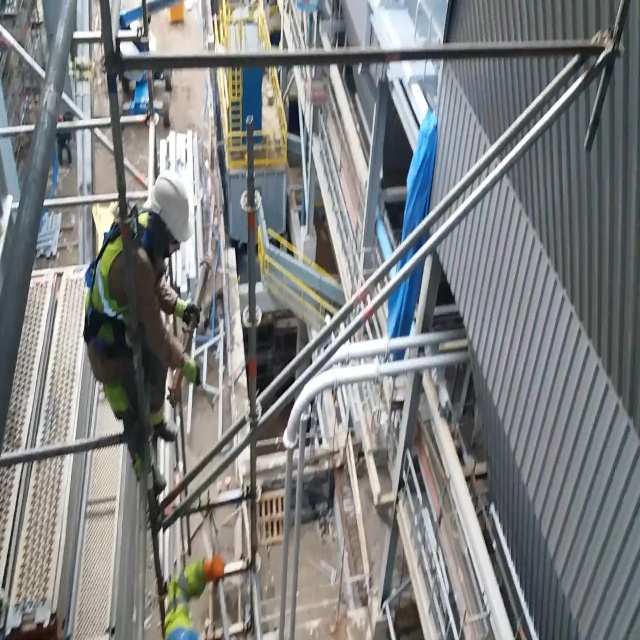Arnes_seguridad: (79, 191, 155, 385)
